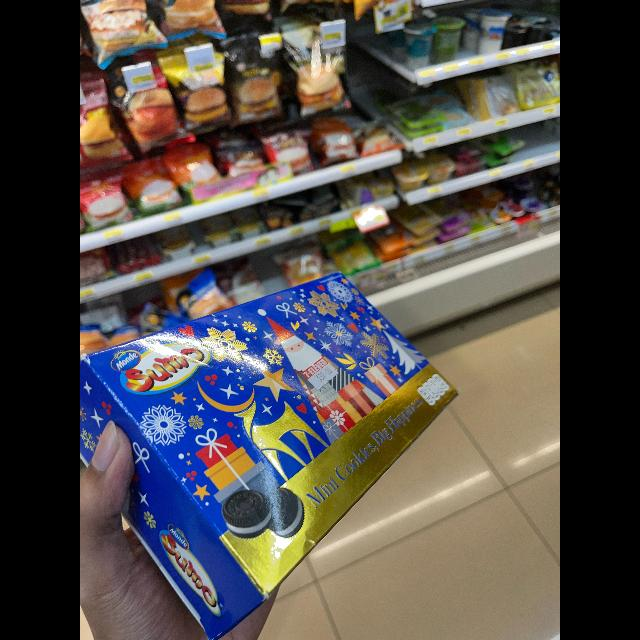cardboard_box: (80, 267, 464, 635)
